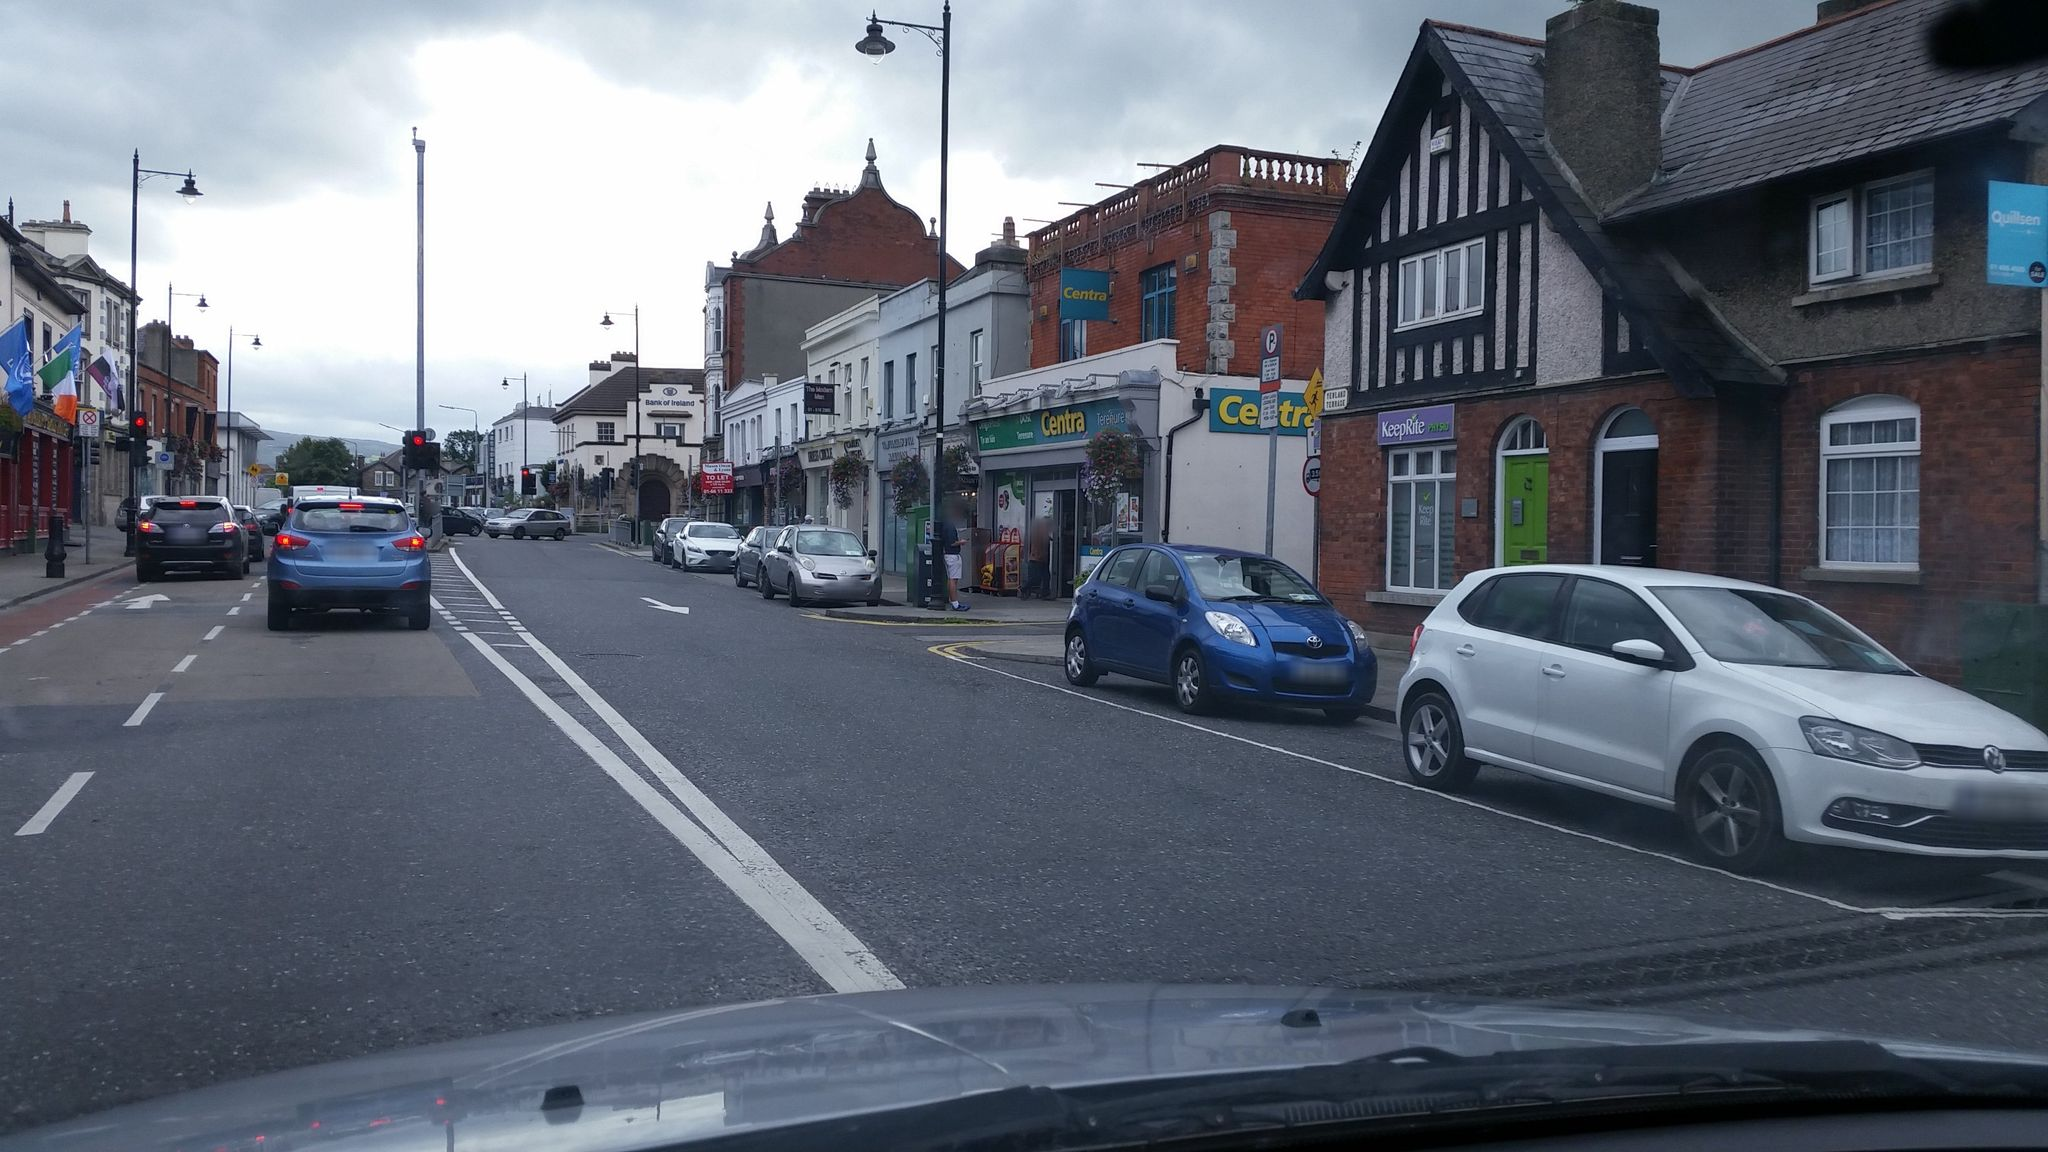property sign: (693, 449, 743, 504)
